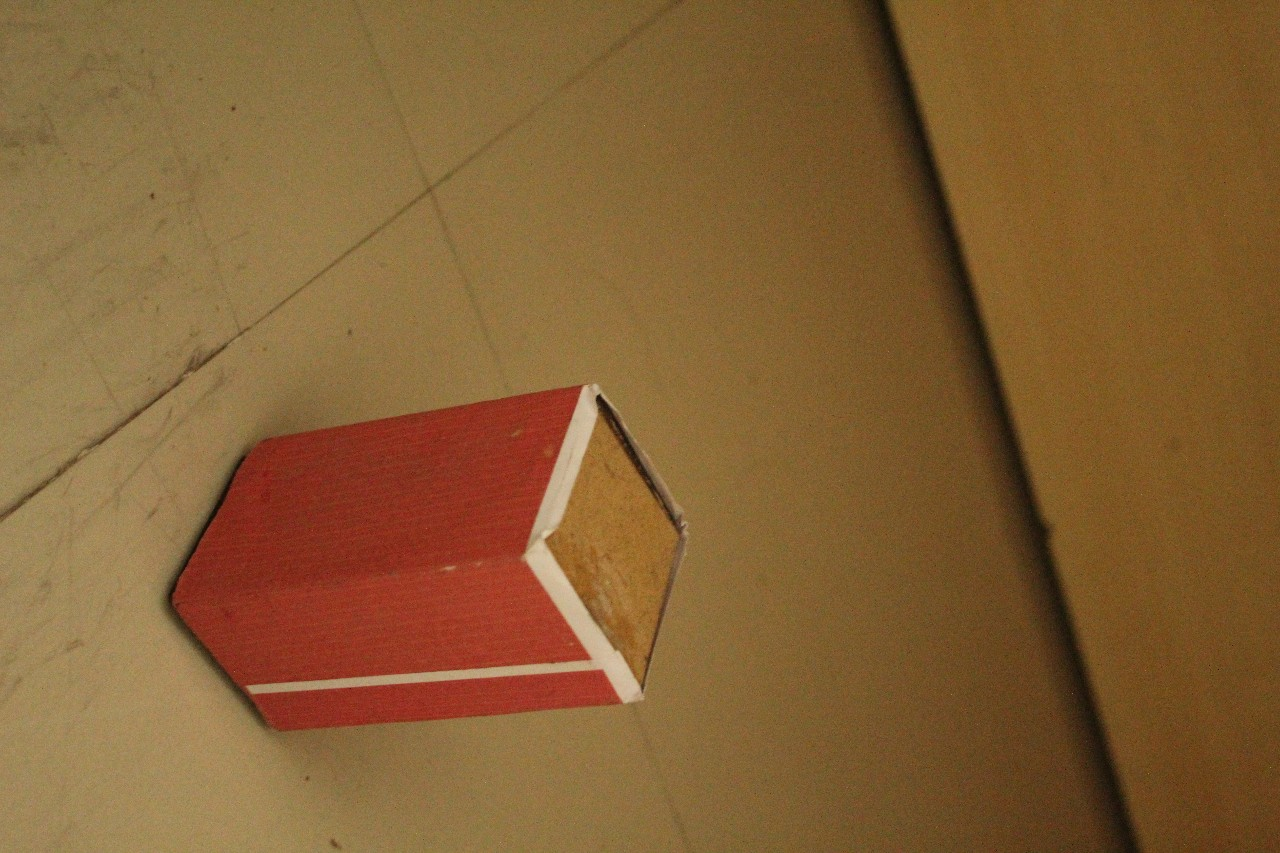red: (147, 366, 645, 767)
